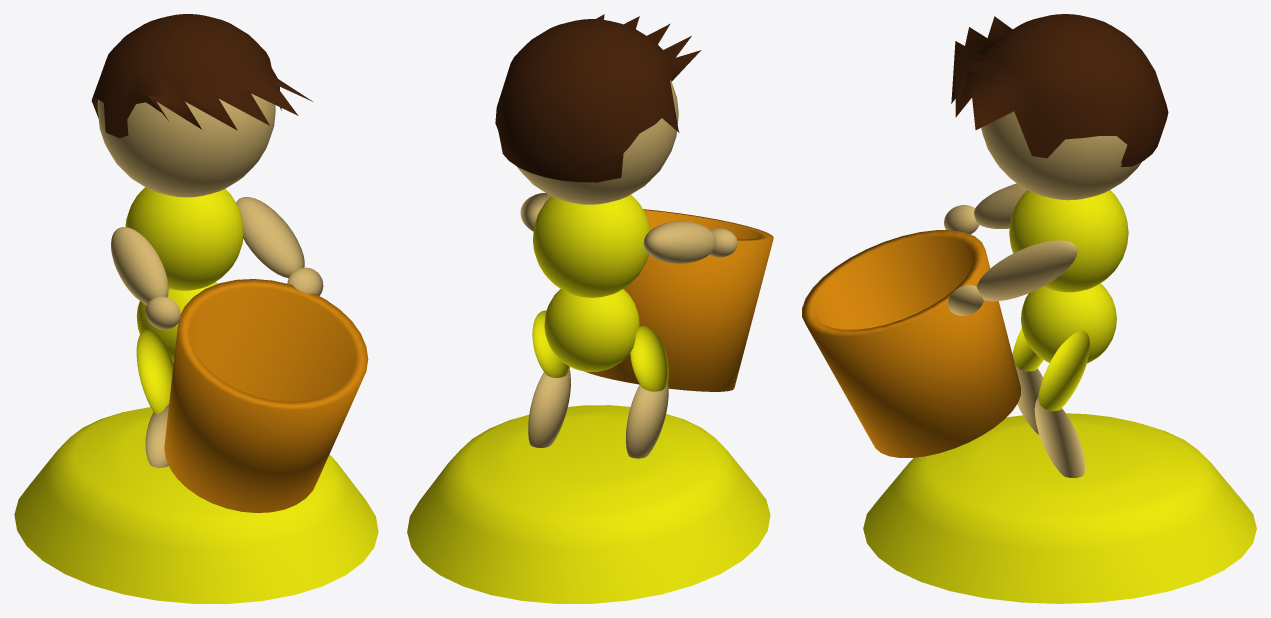
Rendered from BB_Tower_Yellow_Boy.fbx.
3 views of the same model, side by side, from view 1: azimuth 30°, elevation 25°; view 2: azimuth 150°, elevation 25°; view 3: azimuth 270°, elevation 25° (orthographic).
Visible parts, largest first — view 1: Circle_002, Circle, Sphere_009; view 2: Circle, Sphere_009, Circle_002; view 3: Circle, Sphere_009, Circle_002.
Part boxes in pixels (x1,y1,x2,y2): Circle_002: (111, 197, 368, 512); Circle: (14, 407, 378, 603); Sphere_009: (91, 14, 312, 467); Circle: (407, 405, 770, 603); Sphere_009: (495, 14, 701, 458); Circle_002: (520, 193, 773, 391); Circle: (863, 413, 1256, 603); Sphere_009: (951, 14, 1168, 477); Circle_002: (802, 183, 1077, 457).
Size of the model in its own units: 1.22 by 1.89 by 1.55.
